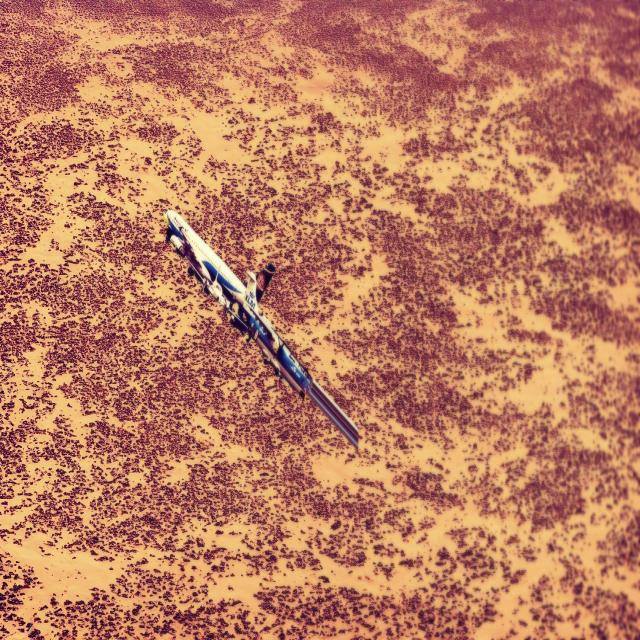airplane: (163, 208, 360, 452)
